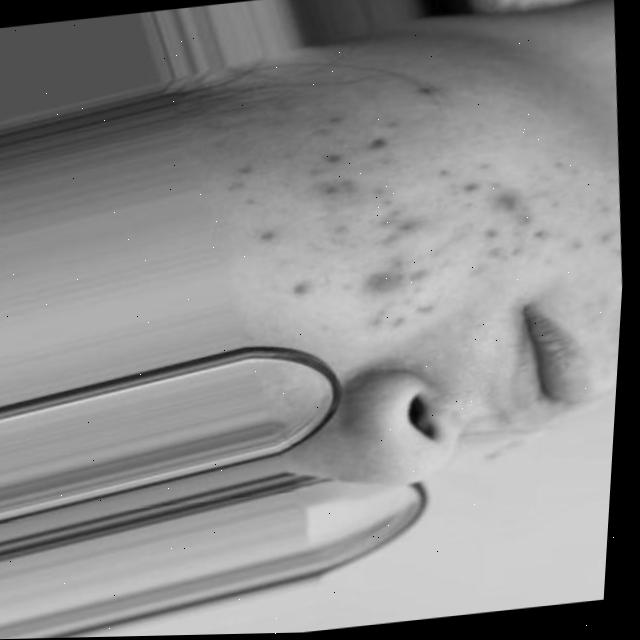Rosacea: (287, 125, 565, 318)
